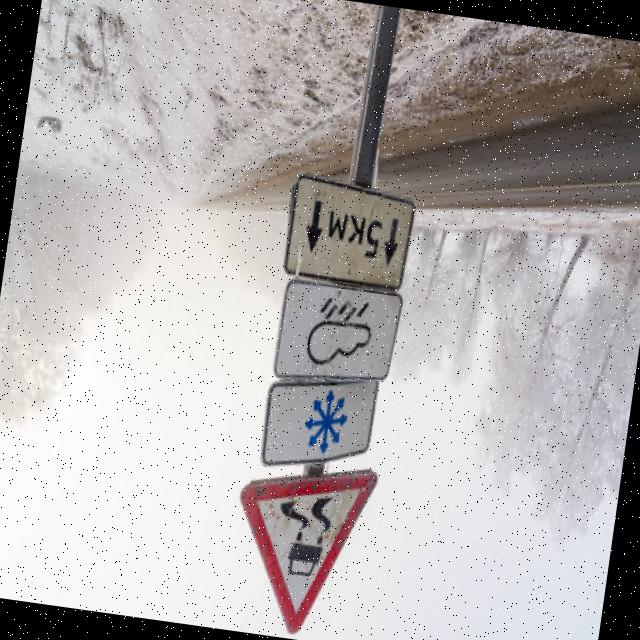road_slippery: (219, 450, 383, 640)
